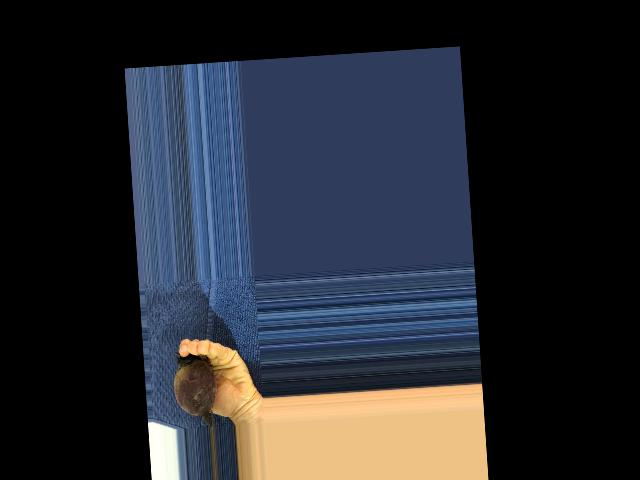beet: (172, 348, 219, 428)
